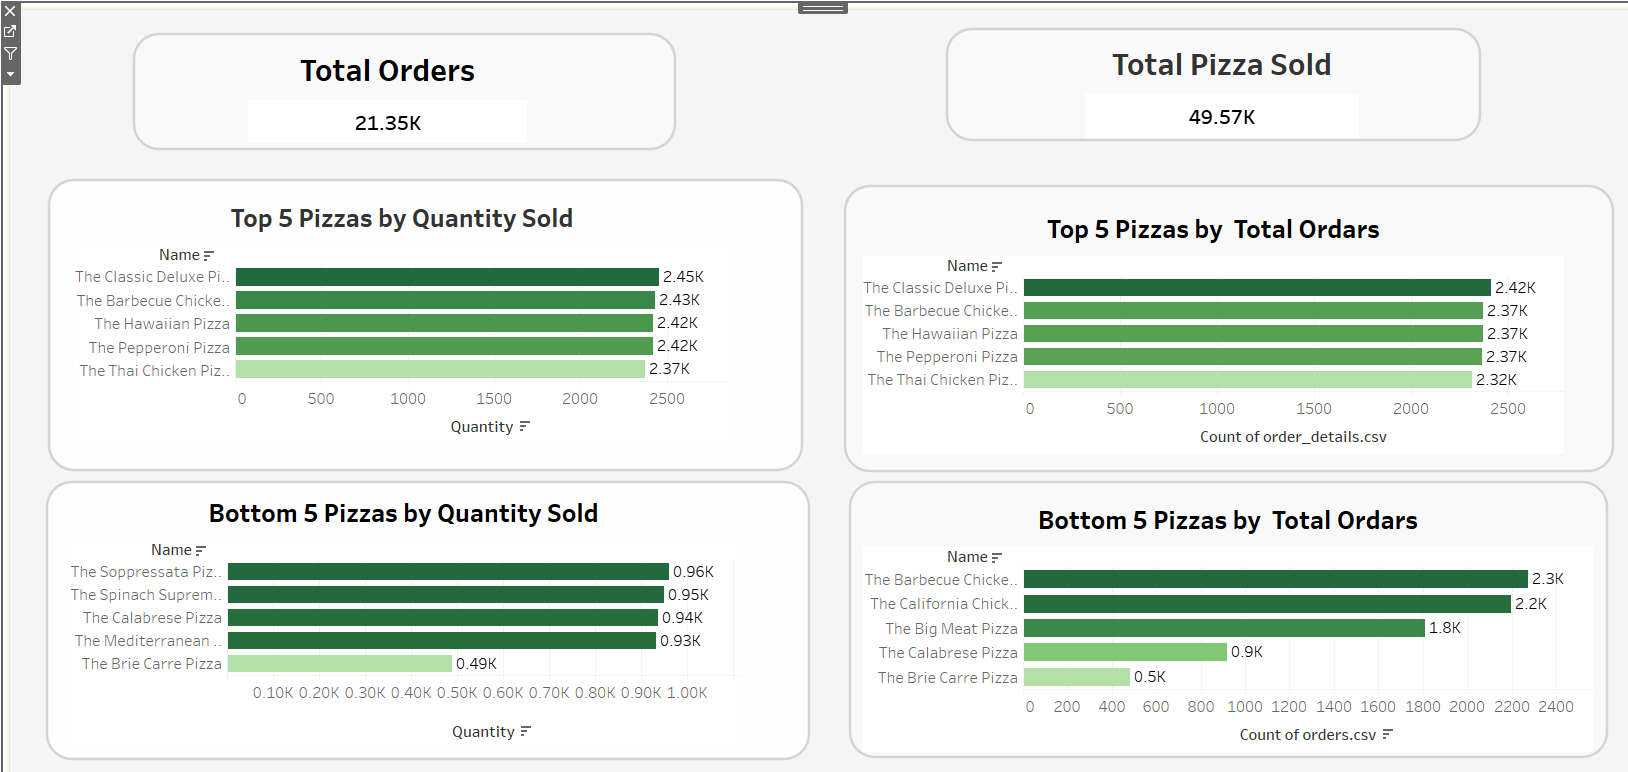

Layout of this report page (visuals, bound fields, positions):
{"tool":"tableau","page":{"name":"Dashboard 3","canvas":[1000,1000],"units":"permille","ordinal":2},"visuals":[{"type":"worksheet","title":"Sheet 11","mark":"Automatic","box":[4.8,10,990.3,980]},{"type":"worksheet","title":"Sheet 15","mark":"Automatic","box":[657.8,53.7,165.4,124.8]},{"type":"worksheet","title":"Sheet 14","mark":"Automatic","box":[152.7,61.2,168.4,123.6]},{"type":"worksheet","title":"Sheet 7","mark":"Automatic","rows":["name"],"cols":["quantity"],"box":[48.3,250.9,394.7,310.9]},{"type":"worksheet","title":"Sheet 9","mark":"Automatic","rows":["name"],"cols":["order_details.csv_C9EB40D235644CE587D7CBC09B35E0B9"],"box":[523.8,264.7,423.1,308.4]},{"type":"worksheet","title":"Sheet 8","mark":"Automatic","rows":["name"],"cols":["quantity"],"box":[43.5,619.2,406.2,322.1]},{"type":"worksheet","title":"Sheet 10","mark":"Automatic","rows":["name"],"cols":["orders.csv_8B41EF938DD54FD9BB56BC64AF5A2BD2"],"box":[523.8,628,440.6,317.1]}]}

Visuals, with their boxes on the dashboard's canvas, which has no fixed pixel size, in thousandths of its width and height (x1, y1, x2, y2). These are canvas units, not pixel positions in the 1628x772 screenshot, which may show the page scaled, cropped or inside an application window:
"Sheet 11" worksheet: l=5, t=10, r=995, b=990
"Sheet 15" worksheet: l=658, t=54, r=823, b=178
"Sheet 14" worksheet: l=153, t=61, r=321, b=185
"Sheet 7" worksheet: l=48, t=251, r=443, b=562
"Sheet 9" worksheet: l=524, t=265, r=947, b=573
"Sheet 8" worksheet: l=44, t=619, r=450, b=941
"Sheet 10" worksheet: l=524, t=628, r=964, b=945
